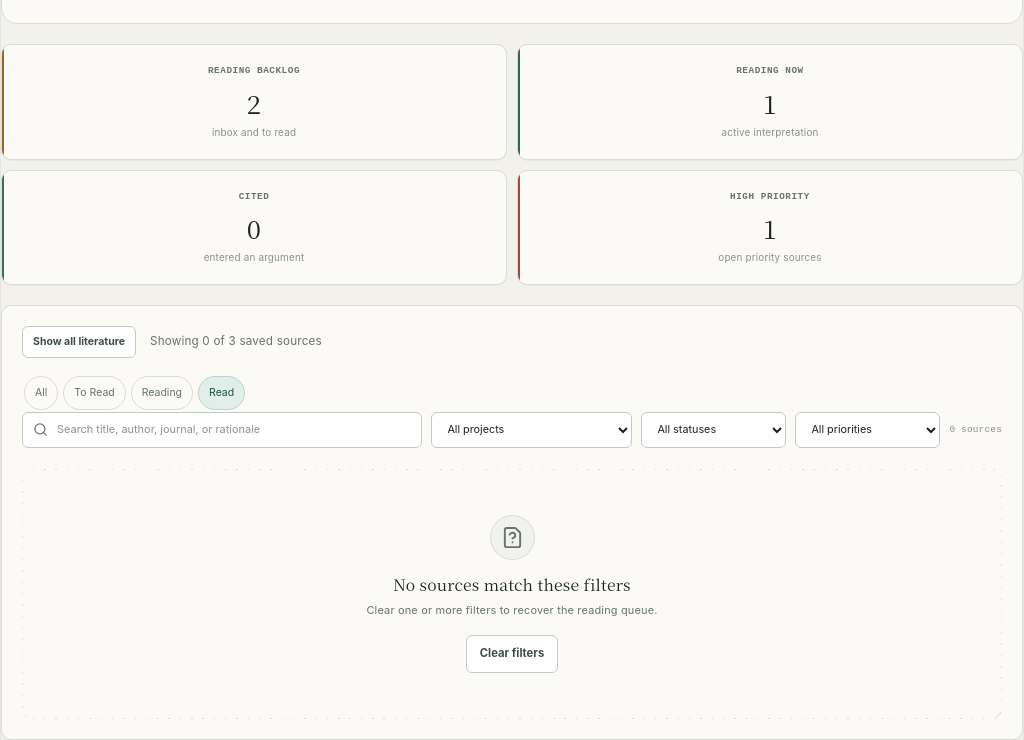
Scenario: LiteraturePage Zotero handoff › recovers sources hidden by a URL status, page filters, and a text search without writing
The width and height of the screenshot is (1024, 740).
(page scrolled)
Type "SYNTHETIC nonexistent query" into the field labelled "Search".
click(222, 430); type("SYNTHETIC nonexistent query")  # box left=22, top=412, right=422, bottom=448
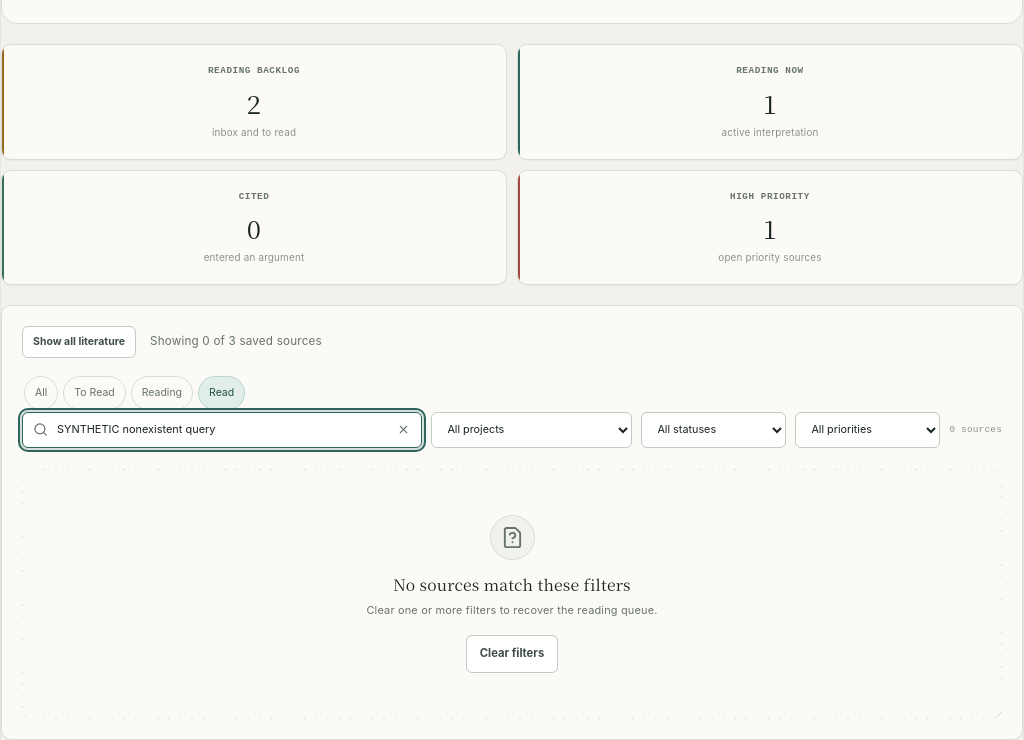
Select "High" in the dropdown named "Filter by priority" at {"x": 868, "y": 430}, box left=795, top=412, right=940, bottom=448
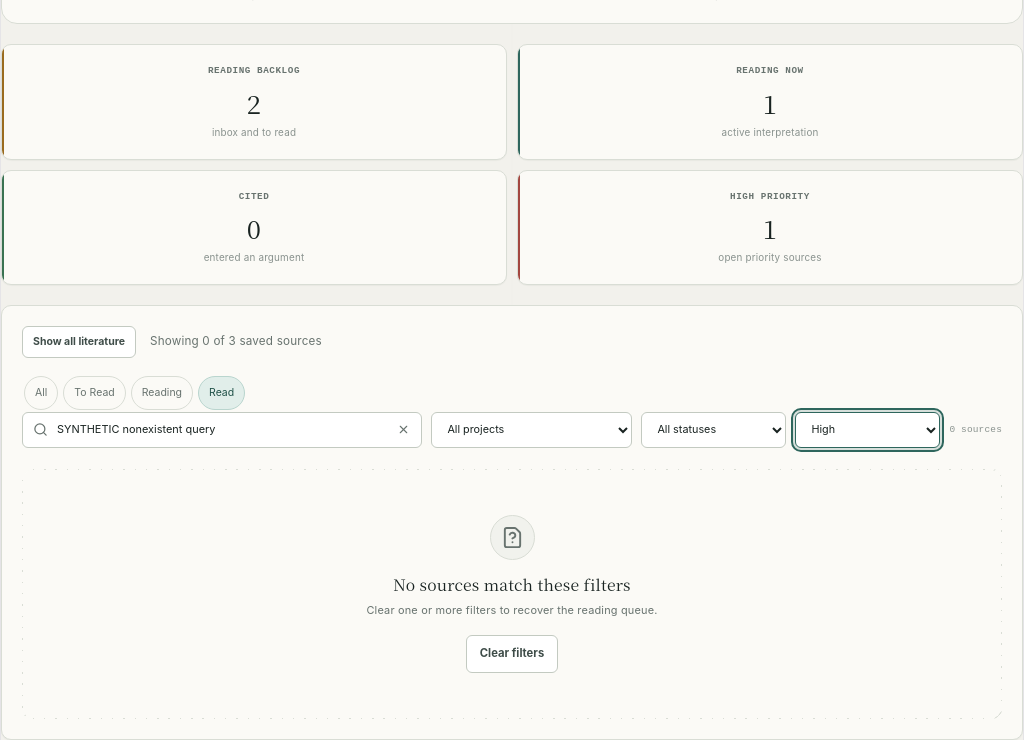
Click the button "Show all literature".
click(79, 342)  # box left=22, top=326, right=136, bottom=358
(page scrolled)
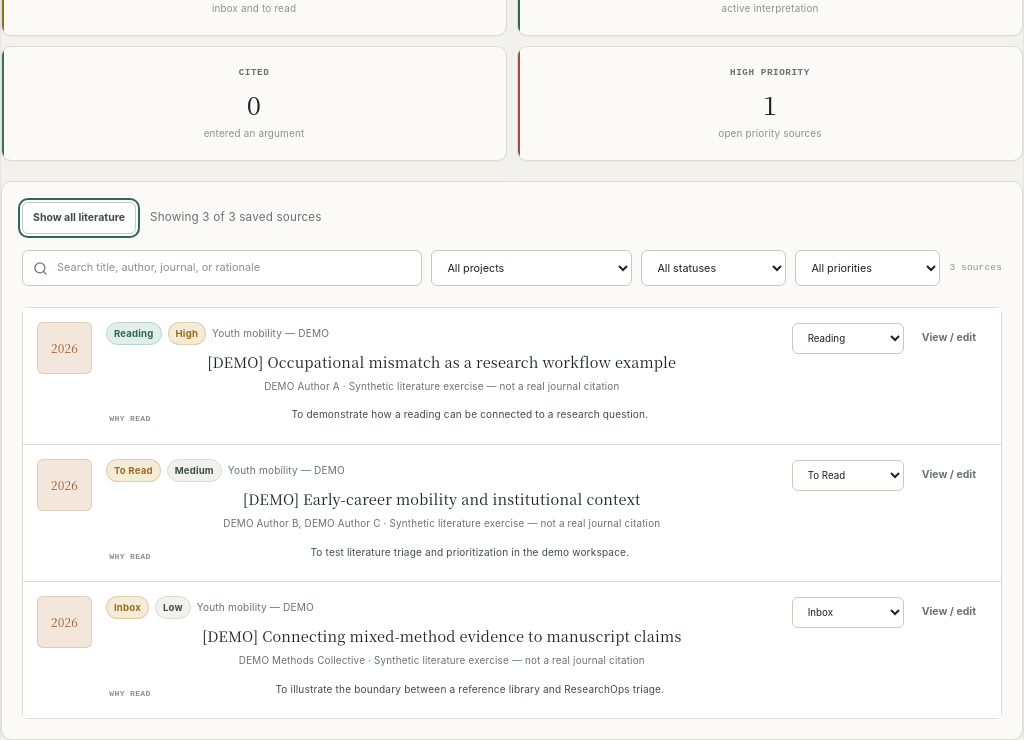
Now the field labelled "Search" is empty, box left=22, top=250, right=422, bottom=286
Now the heading "[DEMO] Occupational mismatch as a research workflow example" is shown, box left=207, top=351, right=676, bottom=372
Now the heading "[DEMO] Early-career mobility and institutional context" is shown, box left=243, top=488, right=641, bottom=509
